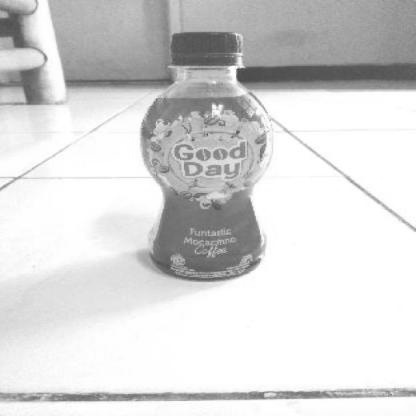plastic_bottles: (139, 29, 277, 286)
